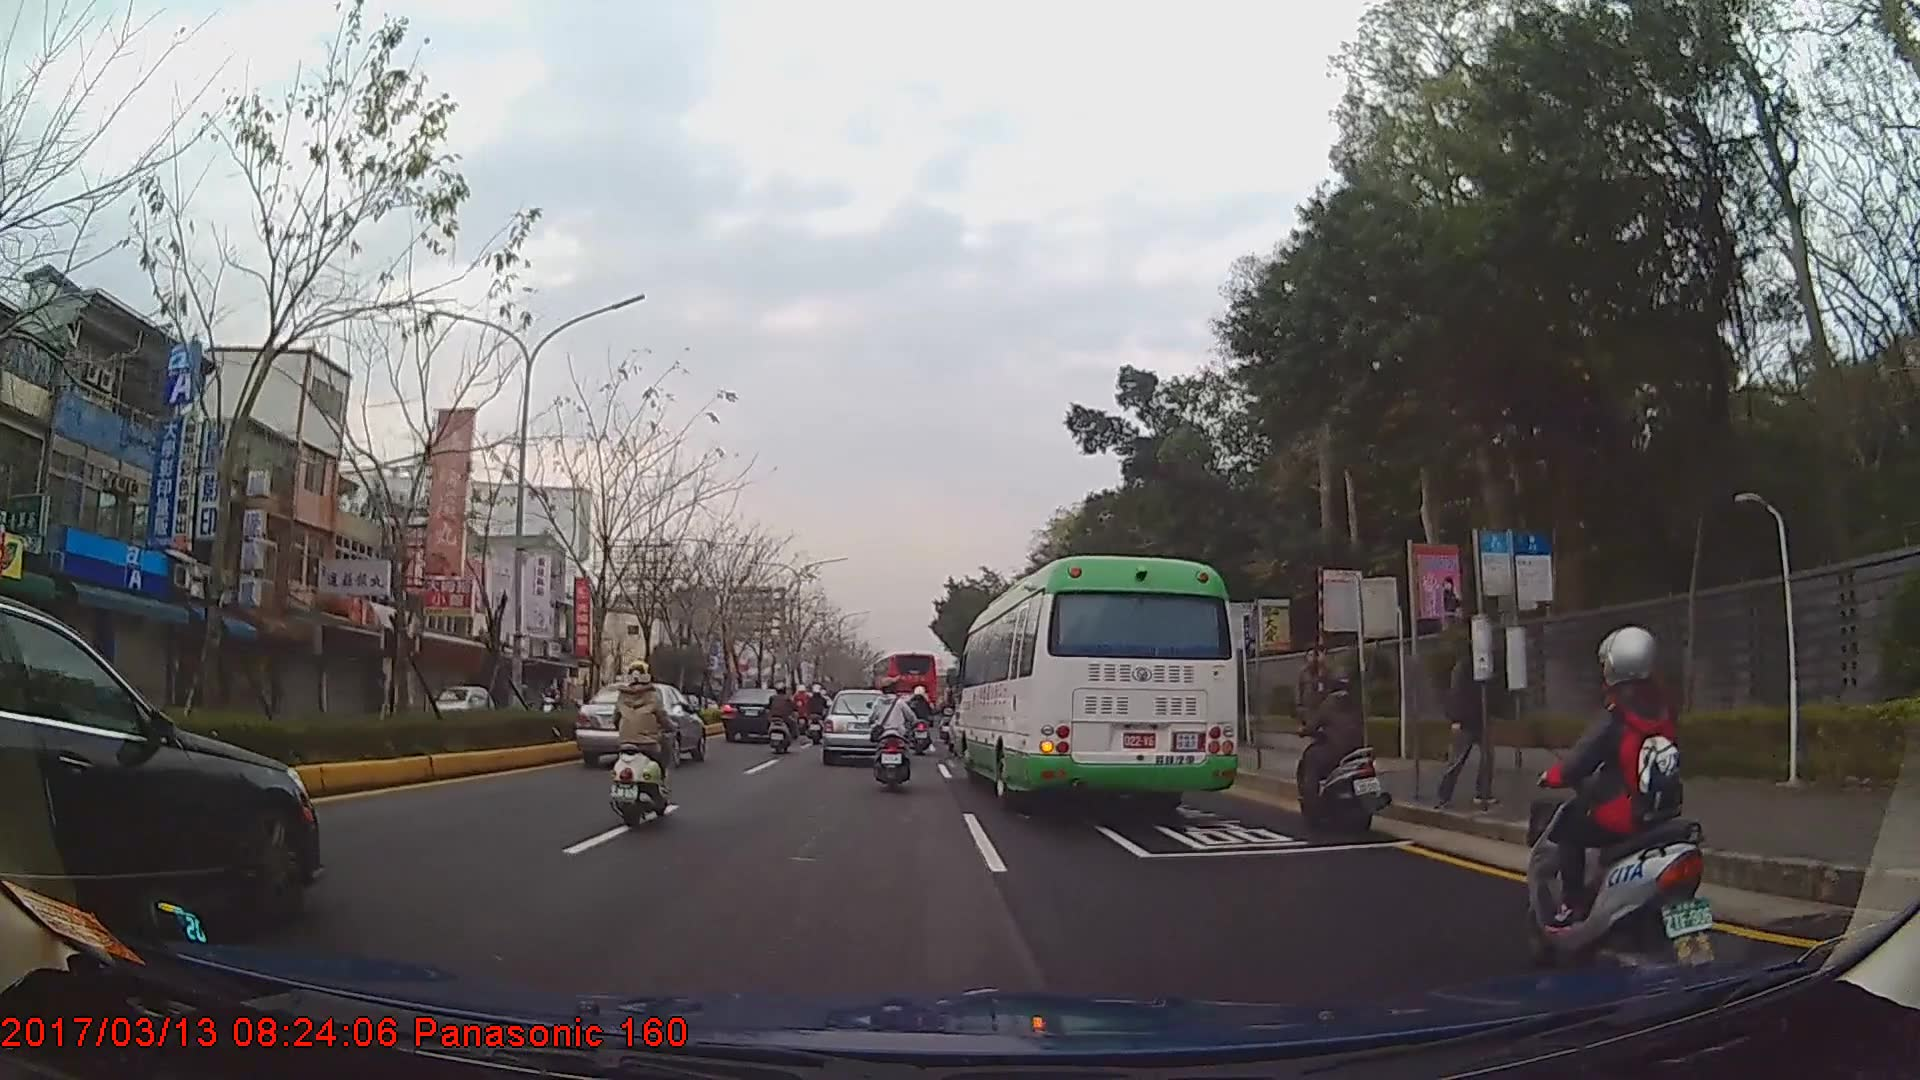pedestrian: (1430, 630, 1501, 811), (1292, 647, 1337, 760)
rider: (1524, 621, 1716, 954), (1288, 664, 1389, 837), (608, 656, 678, 833), (866, 677, 917, 790), (767, 683, 800, 754), (909, 683, 937, 737), (807, 686, 829, 743), (541, 683, 563, 714)
vehicle: (0, 596, 318, 958), (954, 553, 1239, 809), (575, 679, 707, 766), (820, 689, 903, 763), (870, 648, 939, 718), (722, 682, 795, 742), (415, 677, 499, 725)
